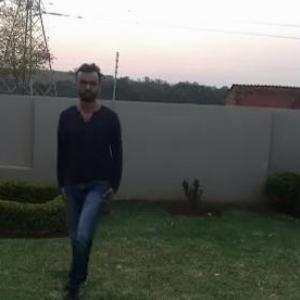follow: (56, 57, 126, 292)
